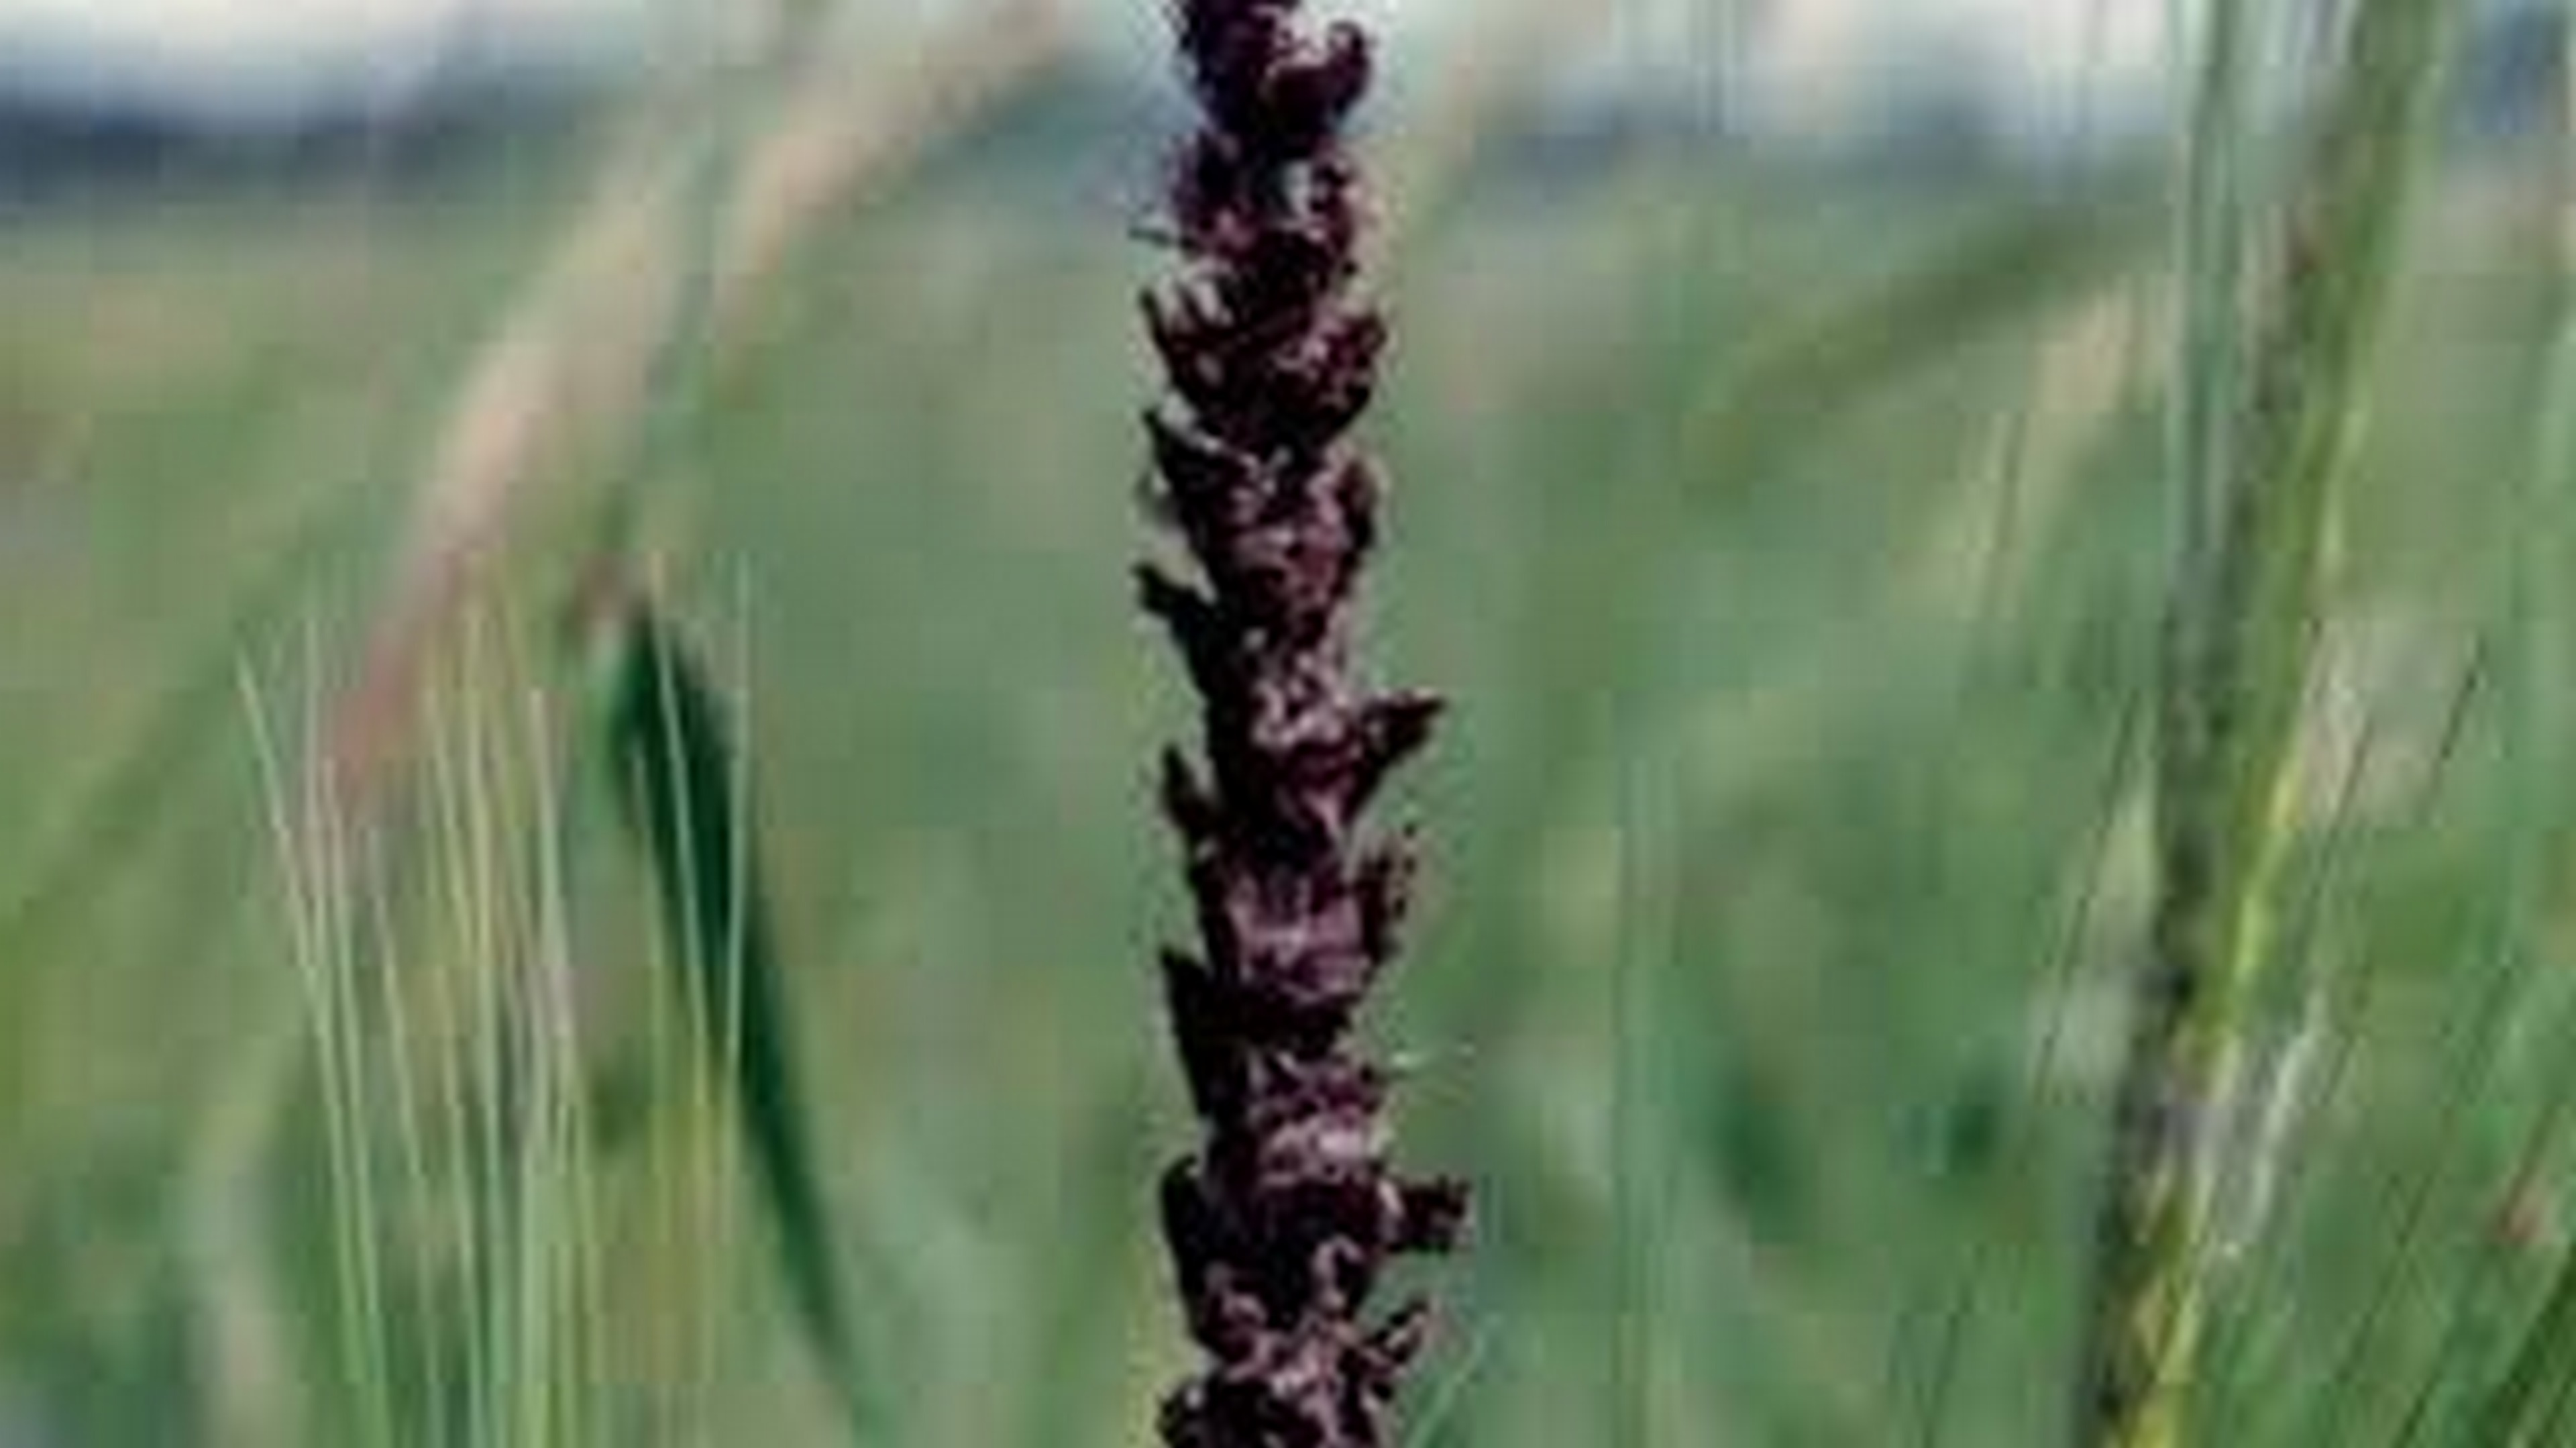Wheat Loose Smut: (1092, 27, 1499, 1448)
